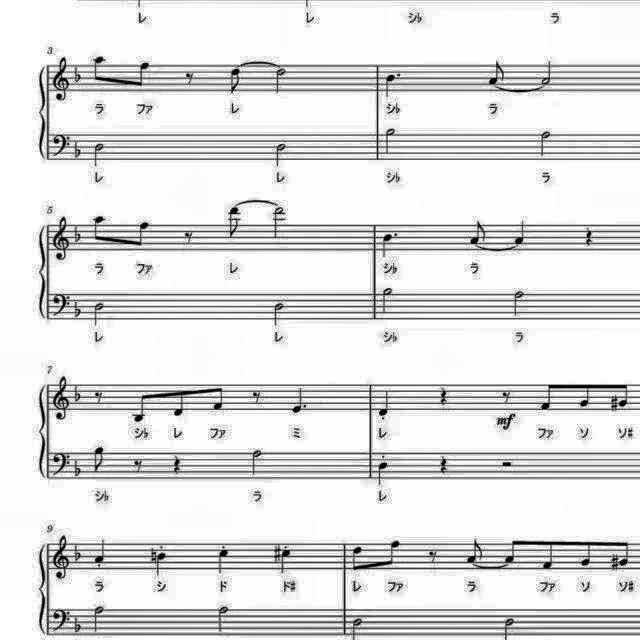Bass-clef: (51, 606, 78, 638), (51, 449, 74, 479), (52, 131, 72, 161), (52, 292, 72, 321)
Bemol: (72, 296, 86, 324), (72, 378, 86, 406), (70, 139, 86, 163), (72, 537, 84, 565), (71, 219, 83, 247), (72, 60, 84, 86), (72, 615, 84, 637), (72, 458, 84, 478)
Diez: (270, 542, 284, 570)
Eighth-note: (380, 536, 404, 572), (130, 56, 154, 92), (130, 387, 152, 425), (130, 217, 154, 251), (88, 210, 109, 246), (462, 537, 486, 567), (172, 382, 192, 418), (540, 538, 560, 574), (226, 206, 246, 242), (348, 542, 368, 576), (90, 52, 110, 86), (500, 533, 520, 567), (484, 58, 508, 86), (466, 218, 488, 248), (227, 65, 247, 98), (208, 380, 228, 412), (538, 378, 558, 410), (576, 538, 596, 570), (574, 379, 594, 409), (88, 446, 106, 478), (616, 379, 634, 409), (618, 538, 634, 570)
Eighth-rest: (179, 66, 199, 90), (178, 227, 198, 249), (130, 454, 148, 476), (92, 385, 108, 407), (498, 387, 514, 409), (424, 548, 441, 568), (248, 387, 264, 407)
Half-note: (270, 204, 290, 242), (535, 124, 555, 160), (380, 124, 400, 160), (272, 65, 292, 98), (510, 288, 530, 320), (378, 284, 398, 316), (247, 446, 266, 478), (536, 57, 556, 87), (270, 299, 290, 329), (272, 140, 290, 172), (214, 602, 232, 634), (92, 601, 108, 635), (91, 139, 109, 169), (499, 614, 519, 640), (91, 300, 109, 328), (346, 615, 365, 640)
Half-rest: (496, 457, 516, 471)
Quarter-dot: (378, 68, 404, 100), (376, 228, 400, 258), (289, 384, 311, 416)
Quarter-note: (92, 537, 111, 571), (214, 544, 234, 576), (276, 544, 296, 576), (511, 218, 531, 248), (377, 388, 395, 420), (152, 550, 172, 578), (376, 458, 392, 488)
Quarter-rest: (434, 453, 452, 479), (436, 382, 454, 408), (169, 452, 185, 476), (582, 224, 598, 248)
Treble-clef: (50, 55, 76, 105), (51, 215, 75, 265), (52, 531, 74, 581), (52, 373, 74, 423)
